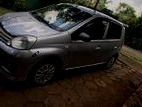car: (0, 3, 129, 87)
